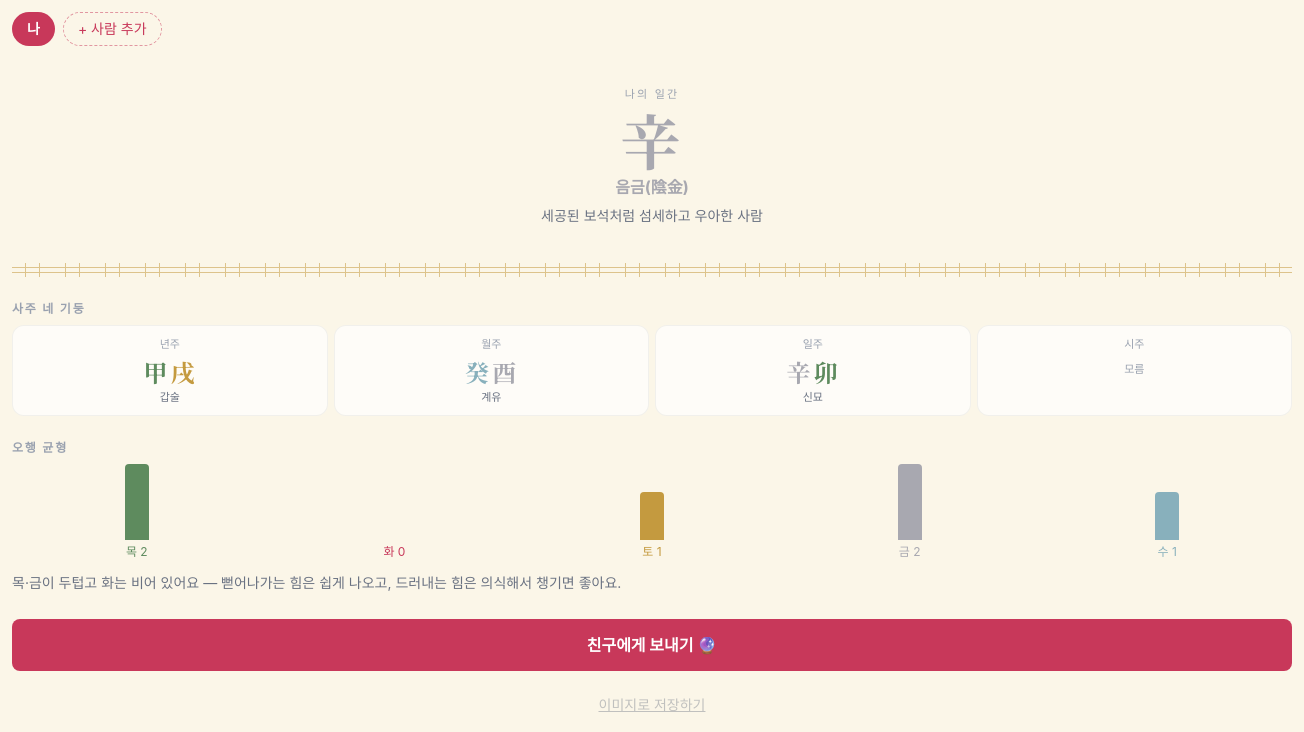
Test: 사주가 저장돼 있어도 '+ 사람 추가' 로 다른 사람 생일 폼을 열 수 있다
Expected: the text "나의 일간" is shown, [625,86,679,102]
Expected: the field labelled "태어난 해" is not shown
Step 1. Click the button "+ 사람 추가" → (112, 29), box [63,12,162,46]
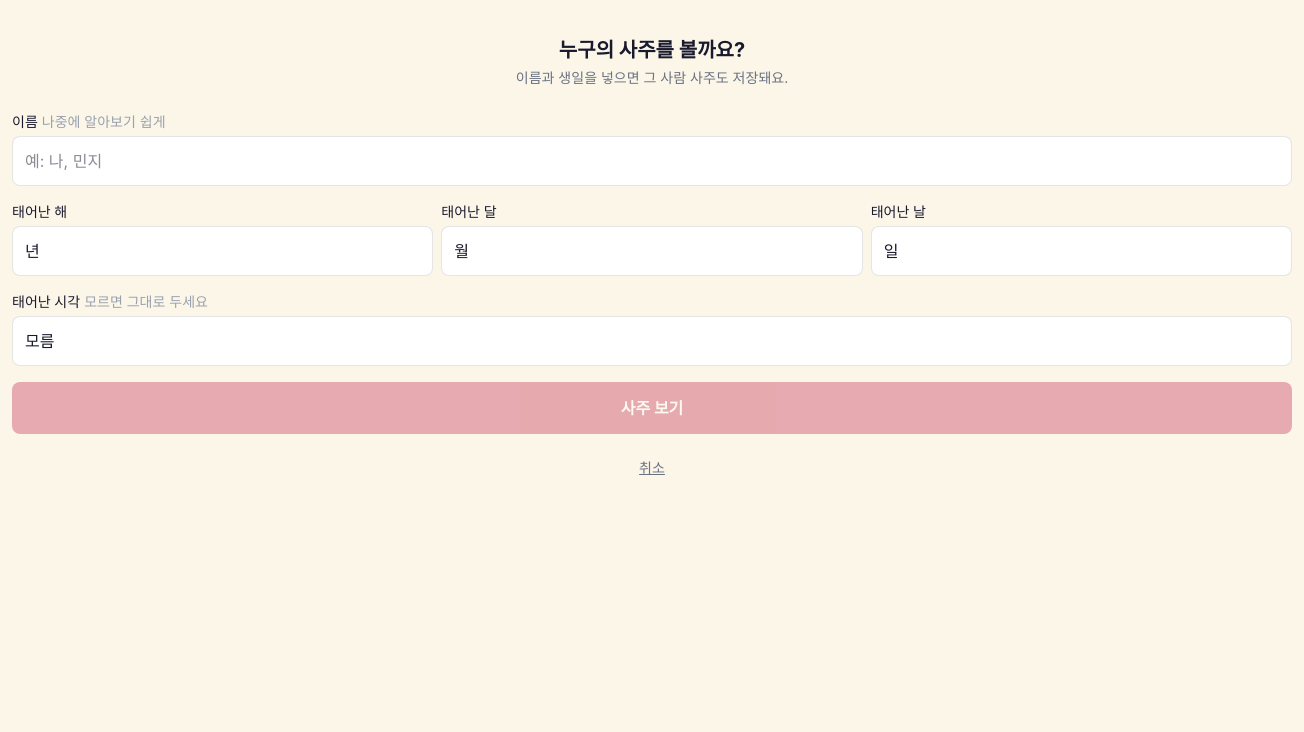
Expected: the heading "누구의 사주를 볼까요?" is shown, [559,38,745,62]
Expected: the dropdown labelled "태어난 해" is shown, [12,226,433,276]
